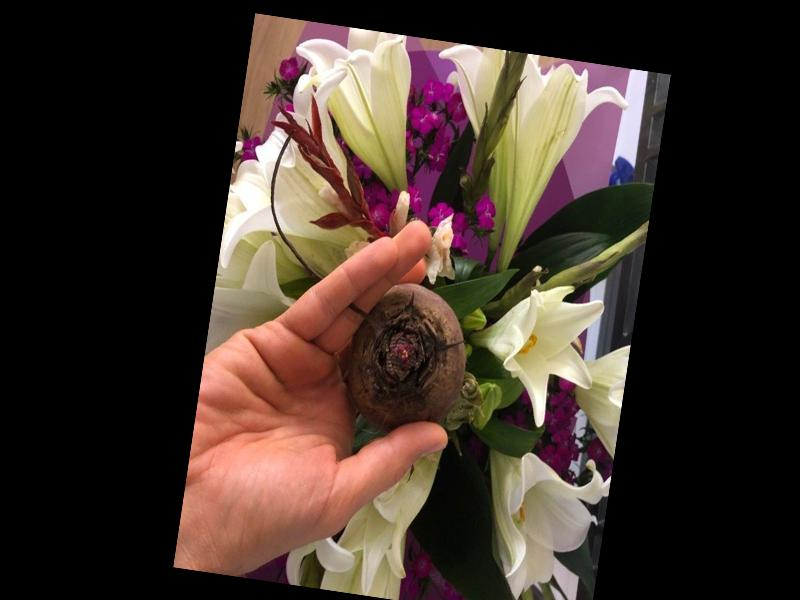Beet: (335, 273, 477, 439)
